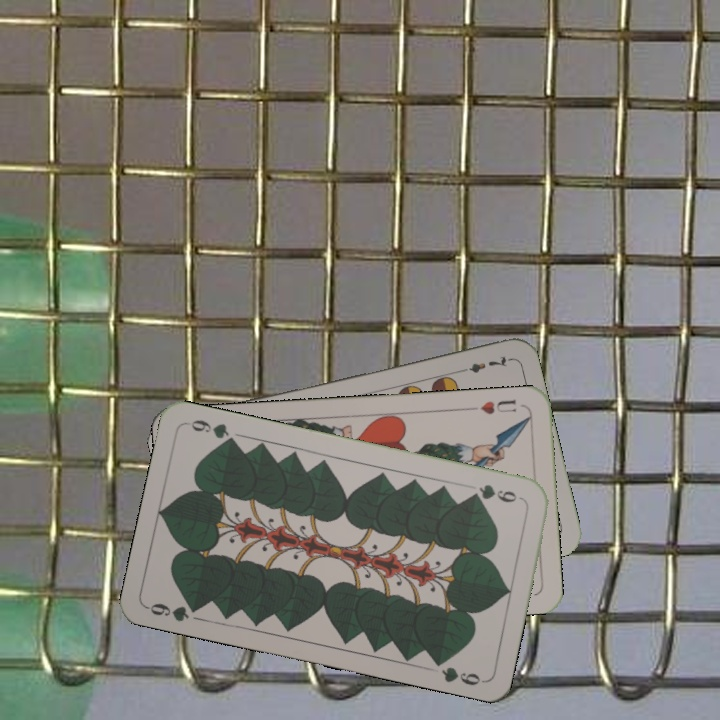E7: (454, 352, 512, 376)
G9: (143, 599, 204, 624), (466, 480, 525, 505)
HU: (476, 396, 519, 417)
